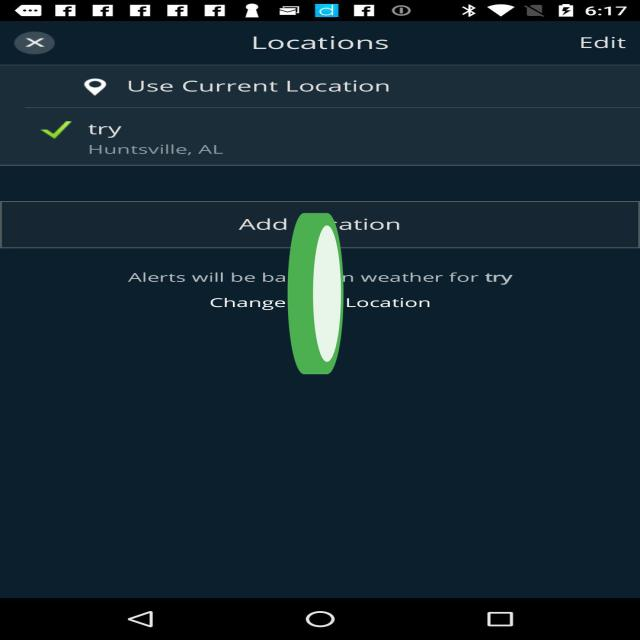social proof: (285, 151, 346, 449)
